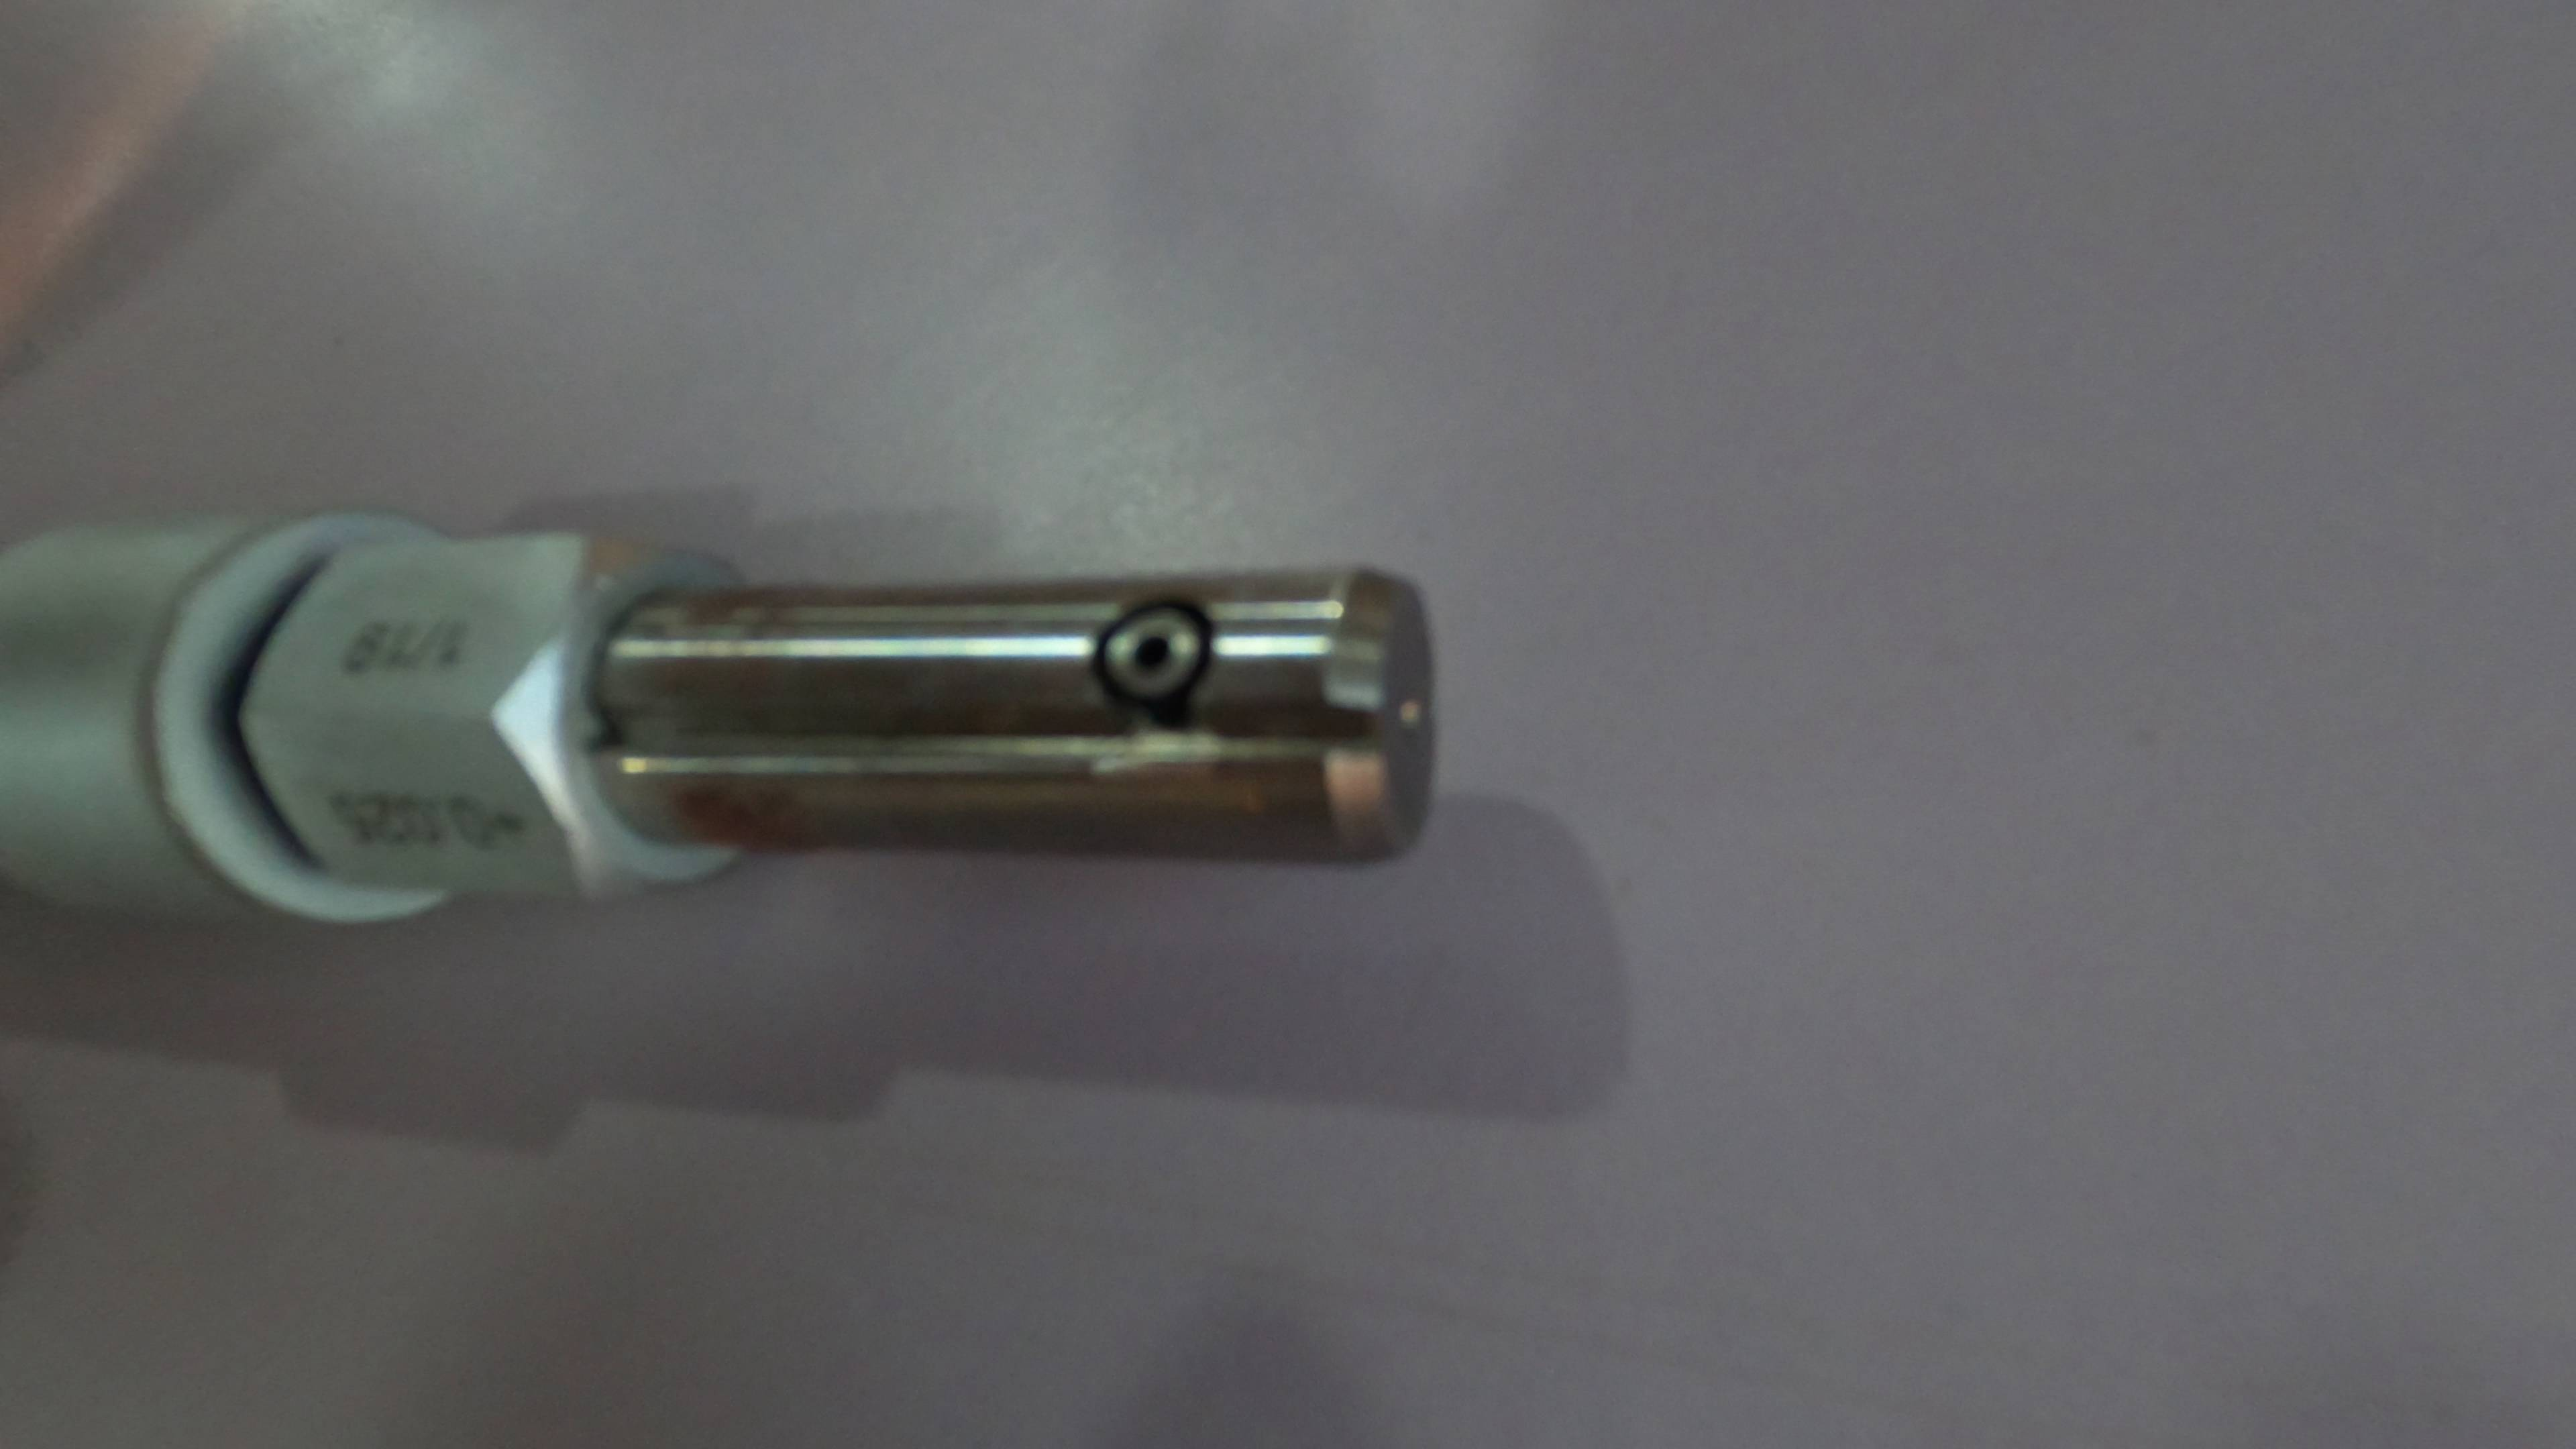air_gauge: (2, 508, 1447, 927)
